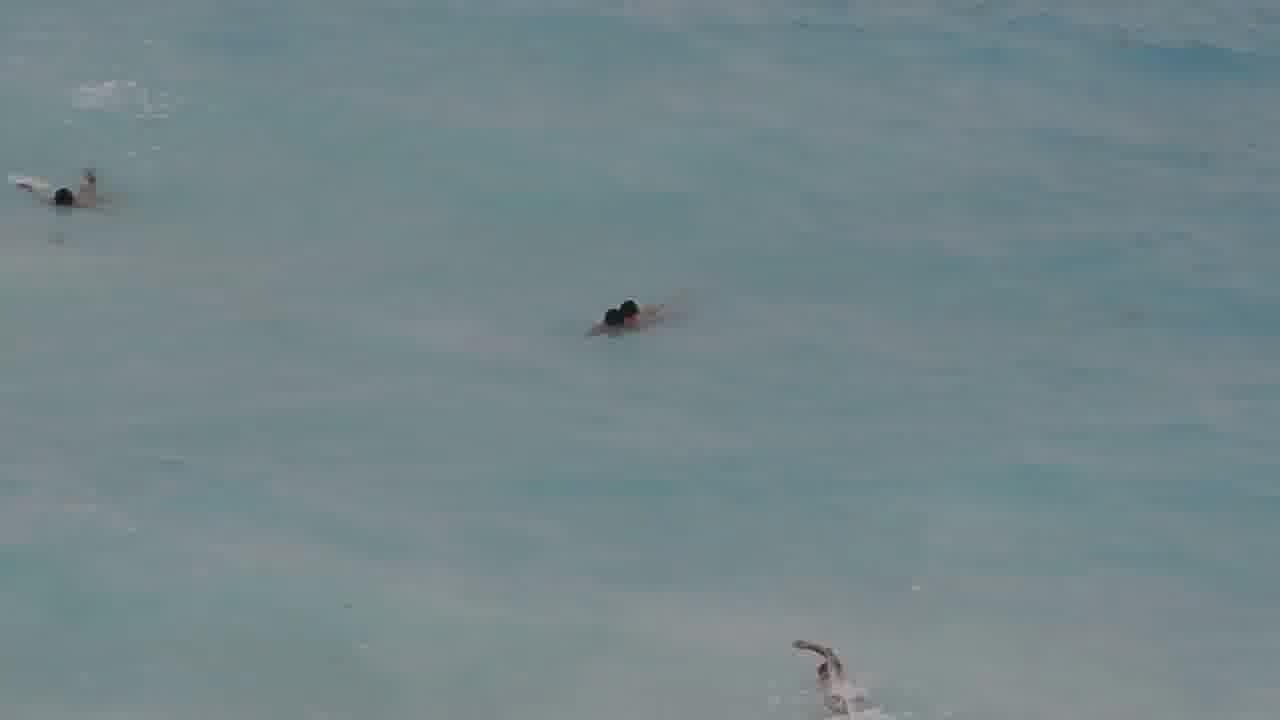human: (784, 635, 853, 719), (8, 171, 104, 214), (576, 310, 636, 338), (620, 291, 671, 323)
